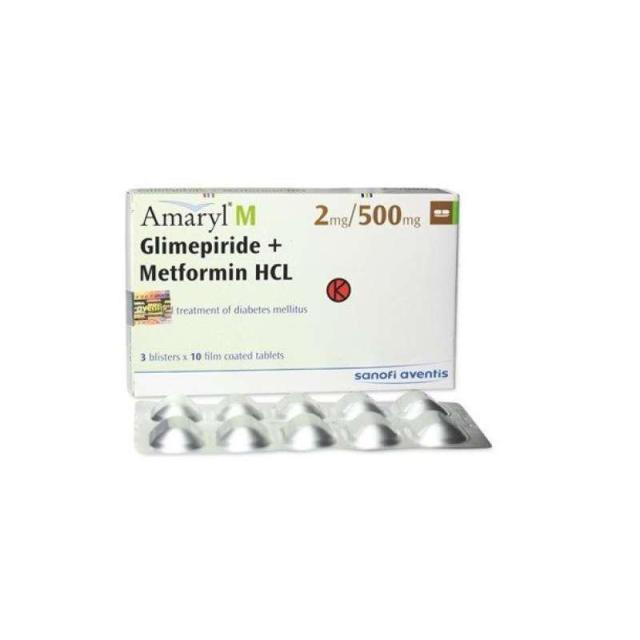drug-name: (138, 200, 260, 229)
